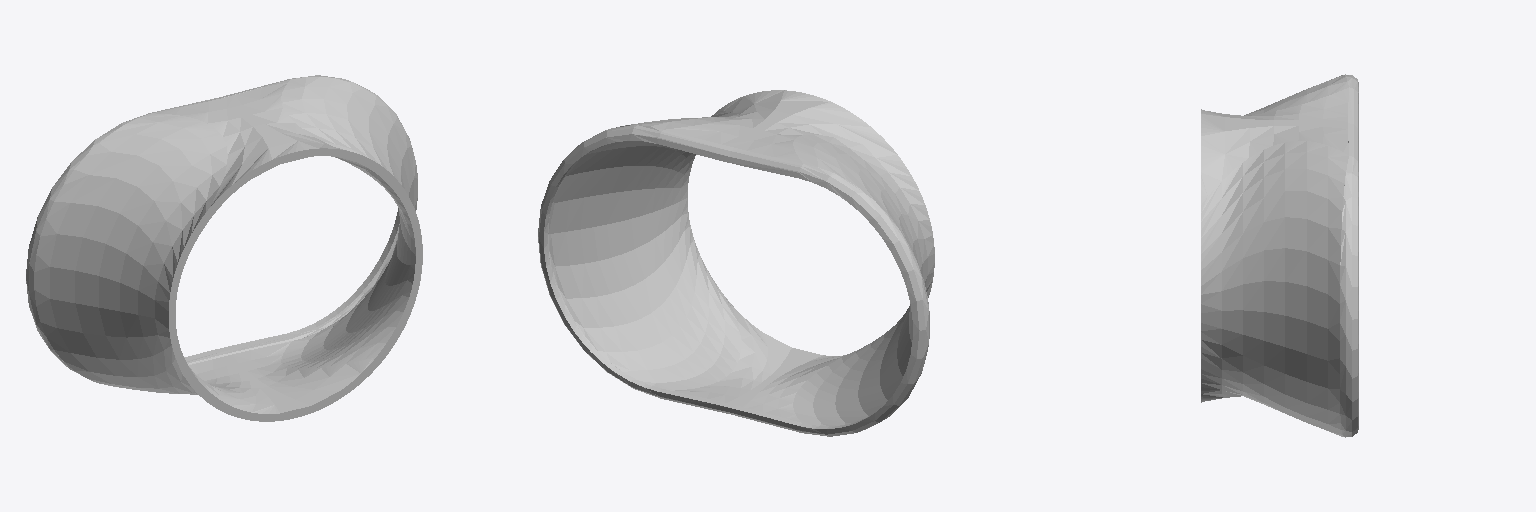
The model's file is neck.obj.
The picture shows the model from 3 angles: view 1: azimuth 30°, elevation 25°; view 2: azimuth 150°, elevation 25°; view 3: azimuth 270°, elevation 25°; orthographic projection.
Visible parts, largest first — view 1: neck; view 2: neck; view 3: neck.
Part boxes in pixels (bbox=[...]): neck: bbox=[26, 75, 422, 421]; neck: bbox=[538, 90, 934, 436]; neck: bbox=[1201, 74, 1358, 437].
Bounding box in the file's own units: 0.1892 × 0.126 × 0.0671.